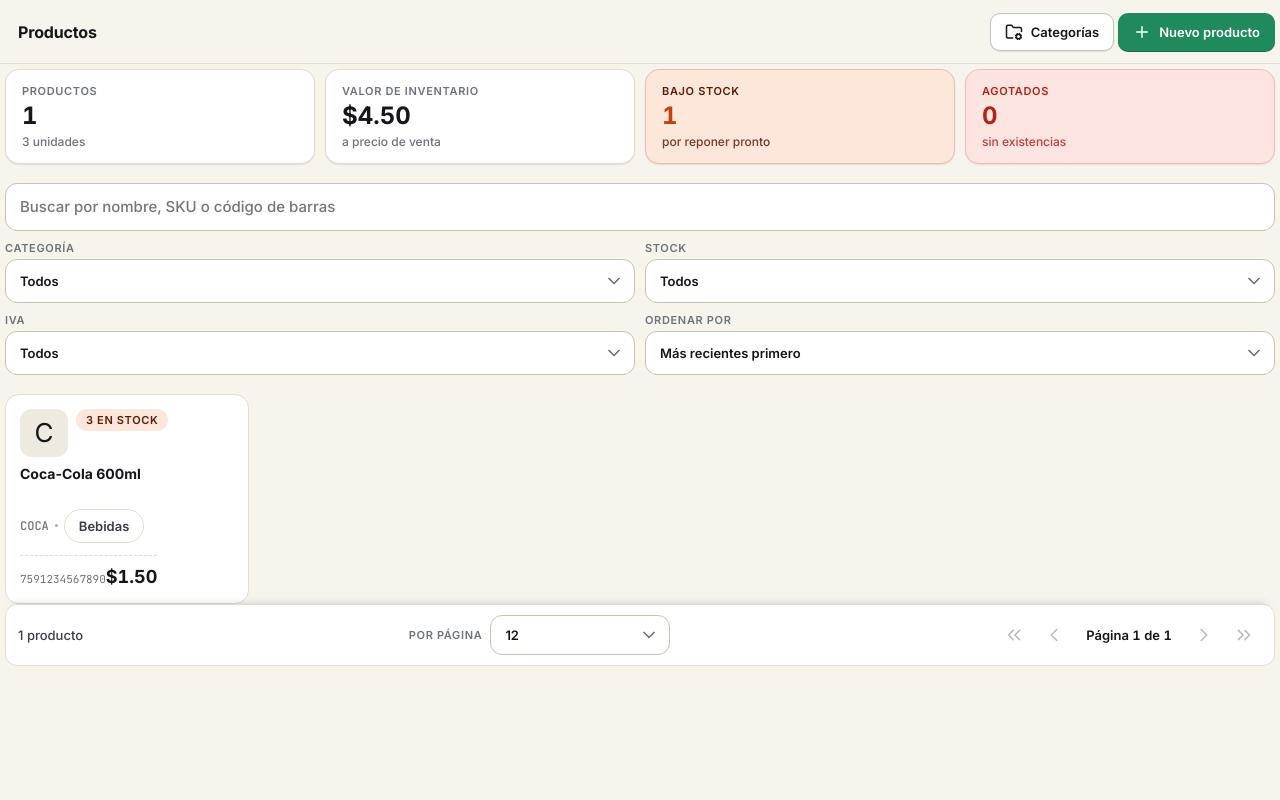
Scenario: Productos — proveedor preferido › the form offers the supplier base plus an explicit "Sin proveedor"
Click the button "Nuevo producto" at (1197, 32), box x1=1118 y1=12 x2=1275 y2=50
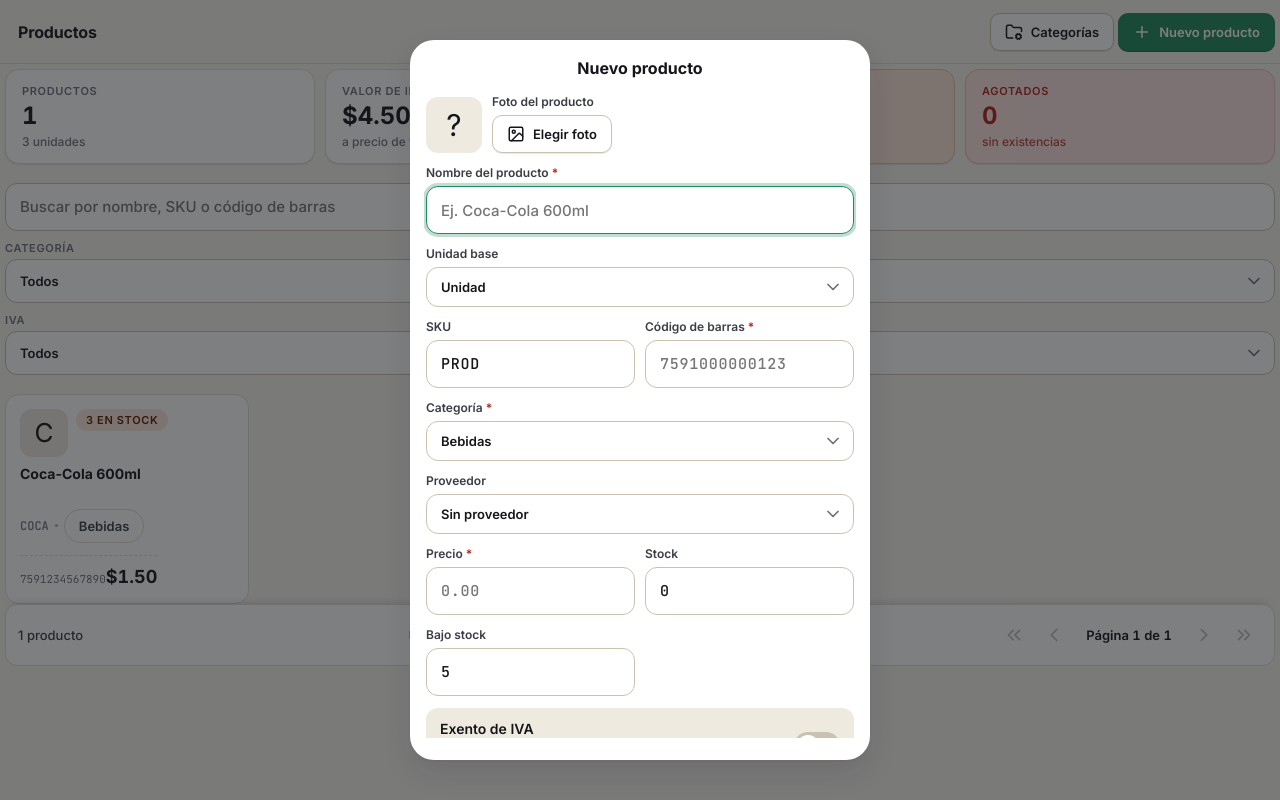
Now the dropdown labelled "Proveedor" shows "Sin proveedor", box x1=426 y1=494 x2=854 y2=534
